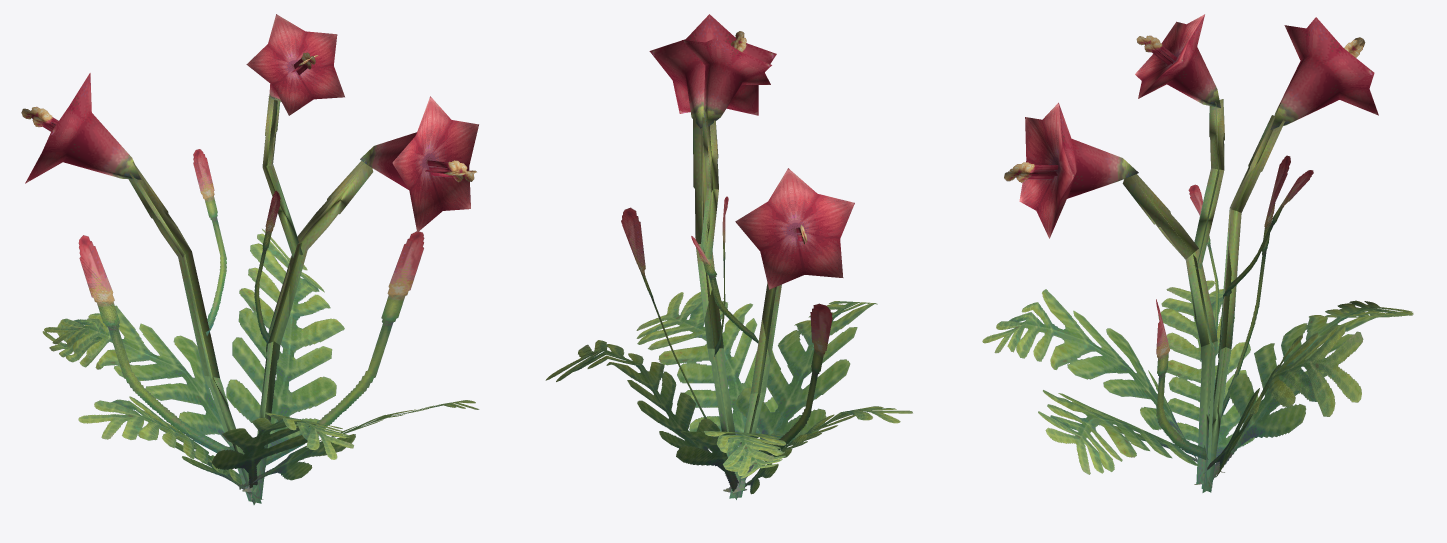
The model's file is 3014_Item_cao_02.FBX.
3 views of the same model, side by side, from view 1: azimuth 30°, elevation 25°; view 2: azimuth 150°, elevation 25°; view 3: azimuth 270°, elevation 25° (orthographic). The views are drawn at different scales.
Visible parts, largest first — view 1: 3014_Item_cao_02; view 2: 3014_Item_cao_02; view 3: 3014_Item_cao_02.
Part boxes in pixels (bbox=[...]): 3014_Item_cao_02: bbox=[21, 14, 479, 504]; 3014_Item_cao_02: bbox=[545, 14, 912, 499]; 3014_Item_cao_02: bbox=[982, 14, 1413, 492].
Bounding box in the file's own units: 83.04 × 101 × 85.83.
